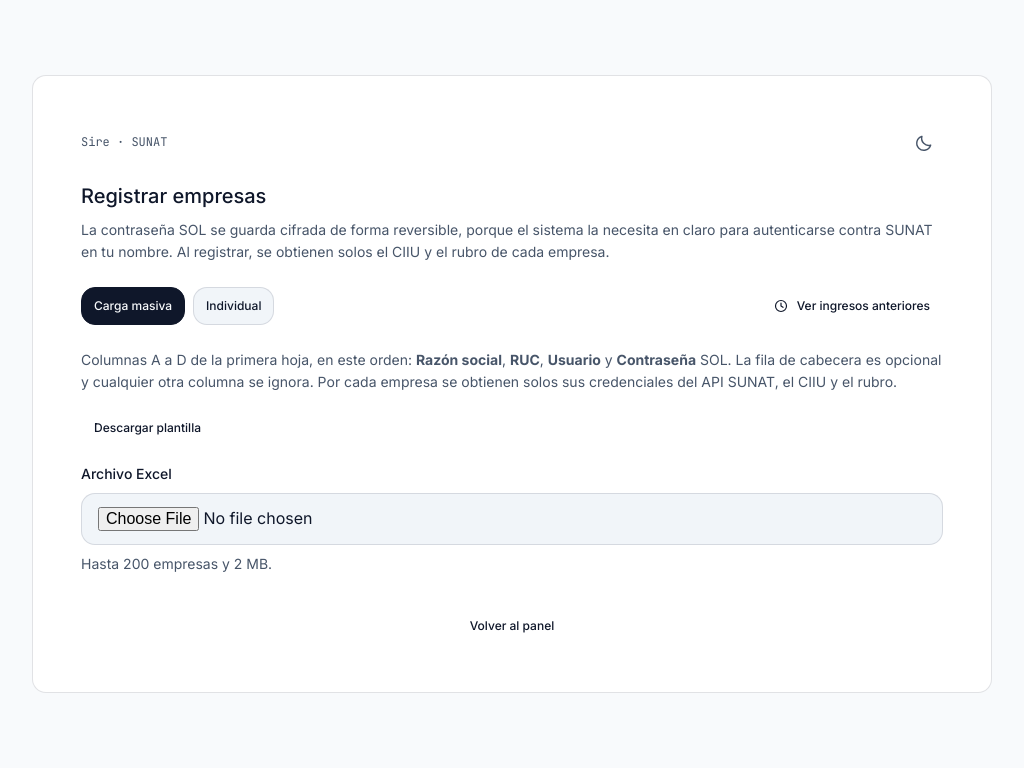
carga masiva › «Ver ingresos anteriores» lista cada ingreso con su fecha y abre su reporte
Click the button "Ver ingresos anteriores".
click(851, 306)  # box [760, 287, 943, 325]
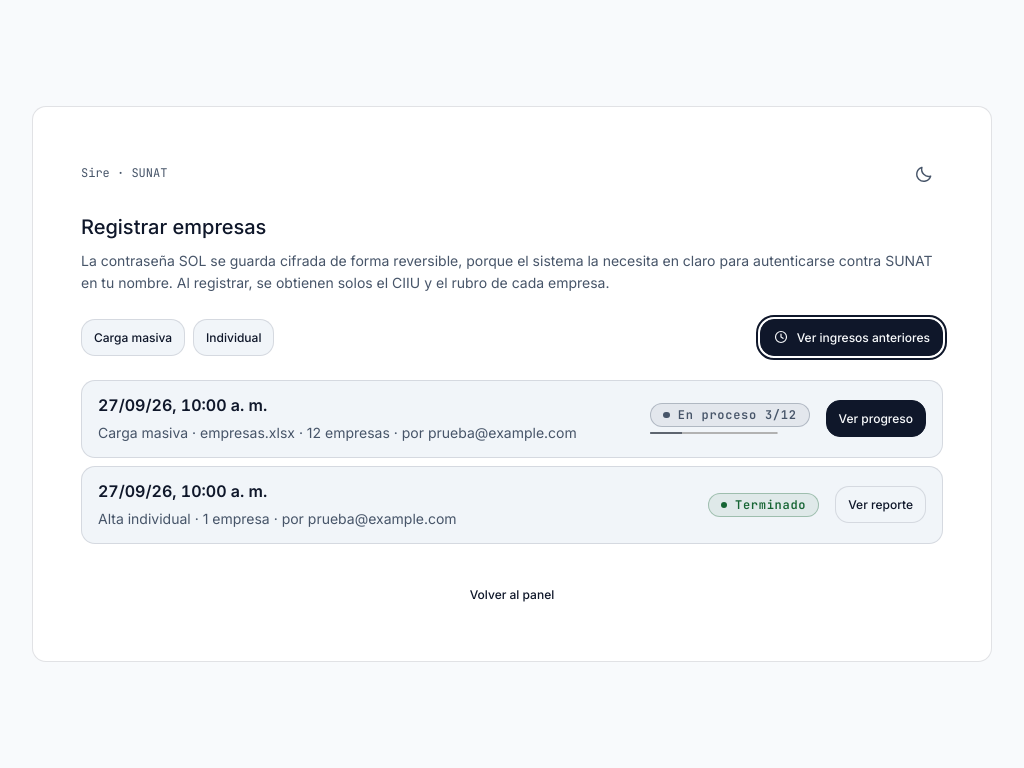
Expected: the list named "Ingresos anteriores" shows "Carga masiva · empresas.xlsx · 12 empresas", [81, 380, 943, 544]
Expected: the text "En proceso 3/12" is shown, [650, 403, 810, 427]
Expected: the text "Terminado" is shown, [708, 493, 819, 517]
Click the button with aria-label "Ver el reporte del ingreso".
click(881, 505)  # box [835, 486, 926, 523]
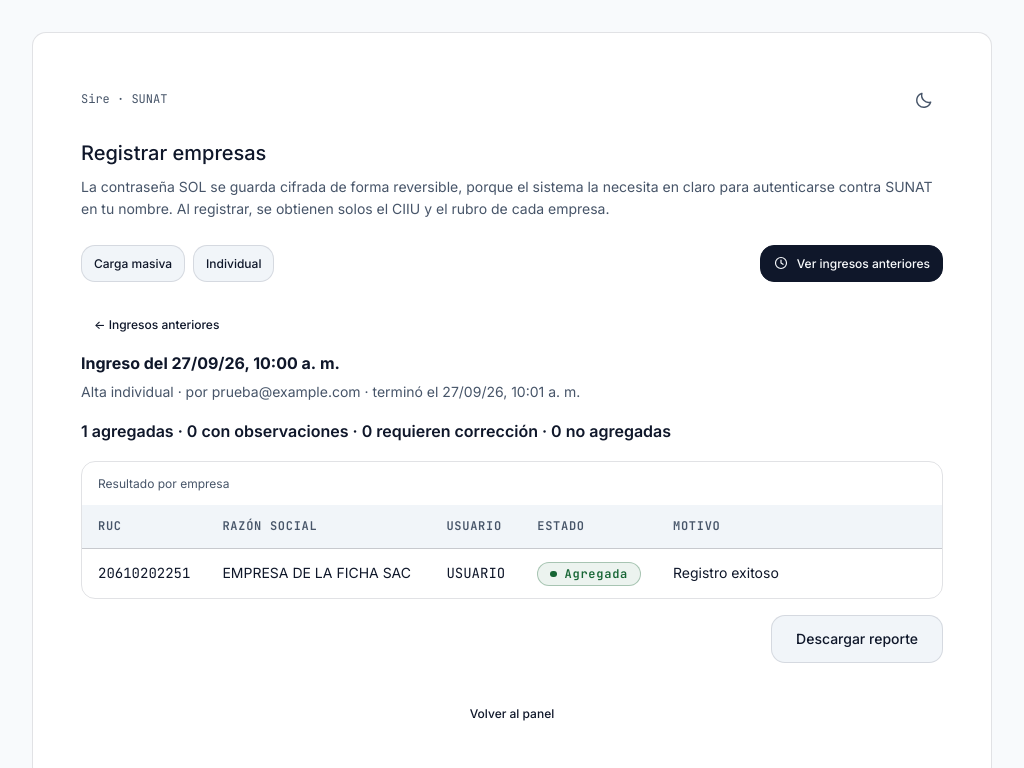
Expected: the text "EMPRESA DE LA FICHA SAC" is shown, [206, 548, 430, 598]
Expected: the text "Ingreso del 27/09/26, 10:00 a. m." is shown, [81, 353, 340, 373]
Expected: the button "Descargar reporte" is shown, [771, 615, 943, 663]
Click the button "← Ingresos anteriores".
click(157, 324)  # box [81, 306, 232, 343]
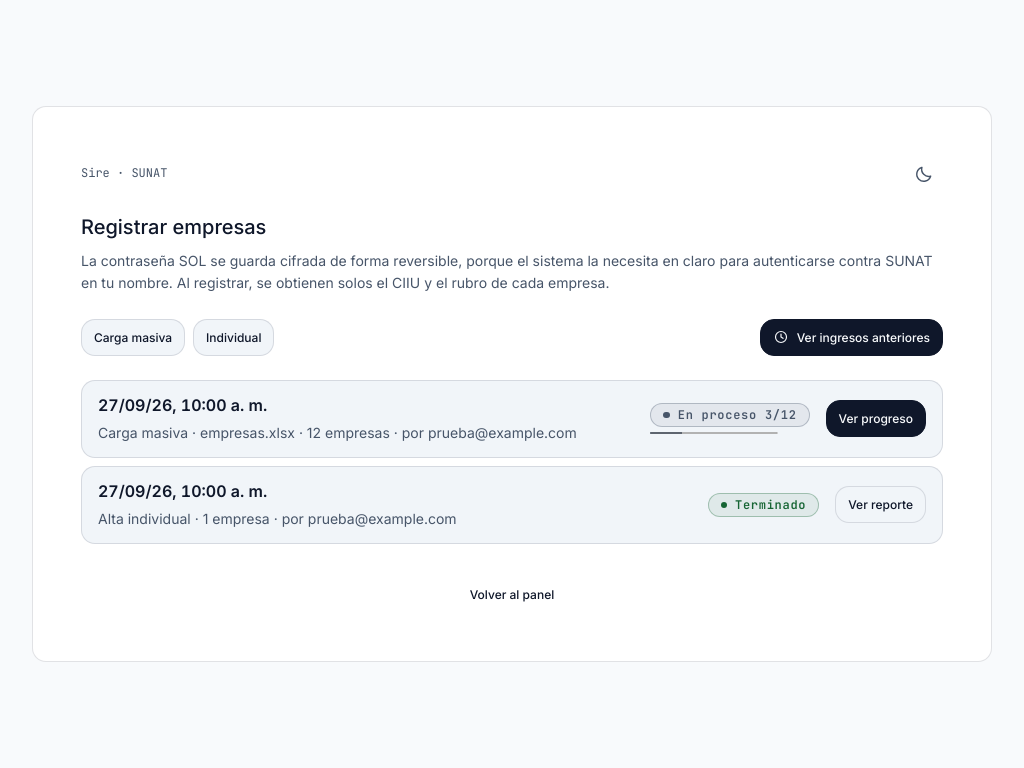
Expected: the list named "Ingresos anteriores" is shown, [81, 380, 943, 544]
